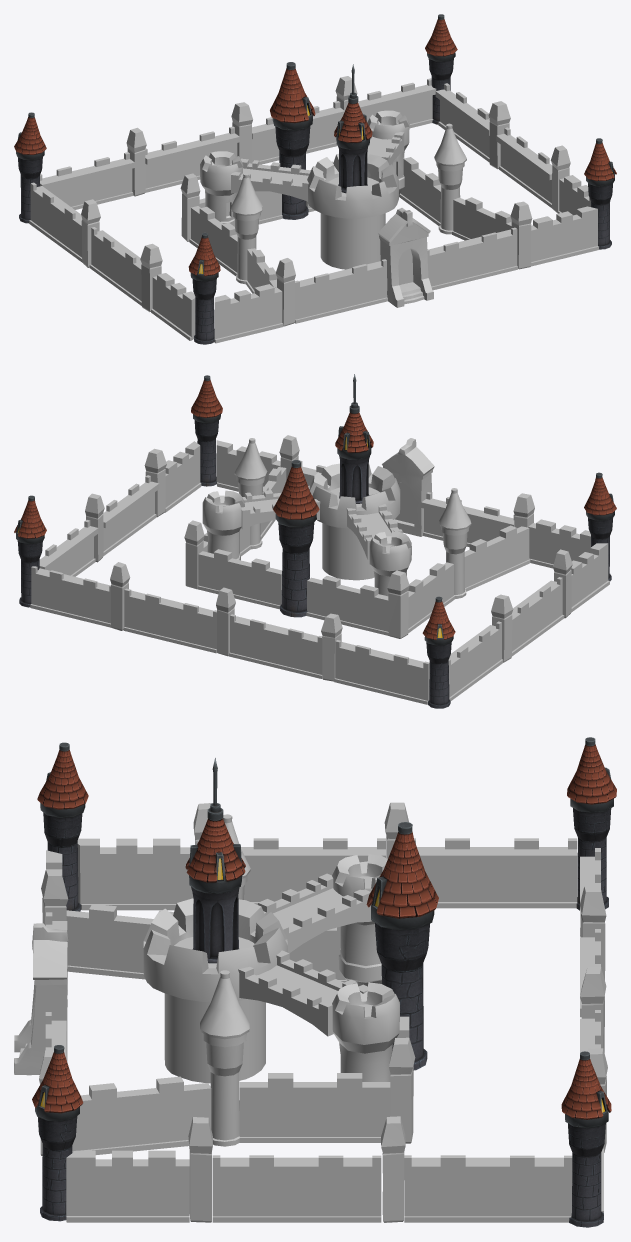
The model's file is Castle_Premade.FBX.
3 renders of one model, top to bottom at view 1: azimuth 30°, elevation 25°; view 2: azimuth 150°, elevation 25°; view 3: azimuth 270°, elevation 25°, orthographic. The views are drawn at different scales.
Visible parts, largest first — view 1: Tower_1, Wall_1, Entry, Wall_006, Tower_009, Wall_016, Wall_3, Wall_015, Wall_004, Tower_3, Wall_013, Wall_009 (+30 smaller); view 2: Tower_1, Tower_009, Wall_016, Wall_015, Wall_017, Wall_018, Wall_011, Wall_012, Wall_020, Entry, Tower_3, Wall_013 (+31 smaller); view 3: Tower_1, Wall_009, Wall_014, Wall_013, Wall_010, Tower_009, Wall_005, Wall_019, Wall_007, Tower_3, Tower_010, Tower_007 (+22 smaller).
Part boxes in pixels (x1,y1,x2,y2): Tower_1: (307,153,398,269); Wall_1: (294,259,387,323); Entry: (378,208,433,307); Wall_006: (427,227,517,290); Tower_009: (270,62,315,219); Wall_016: (40,152,134,209); Wall_3: (214,284,283,343); Wall_015: (145,126,239,192); Wall_004: (531,206,598,266); Tower_3: (334,64,372,193); Wall_013: (29,182,82,262); Wall_009: (496,127,552,207); Tower_1: (309,463,400,580); Tower_009: (273,460,319,617); Wall_016: (334,640,429,704); Wall_015: (229,614,322,678); Wall_017: (123,588,216,653); Wall_018: (30,566,111,627); Wall_011: (197,549,281,609); Wall_012: (306,576,388,635); Wall_020: (464,525,530,591); Entry: (382,438,434,536); Tower_3: (335,374,373,503); Wall_013: (448,621,503,700); Tower_1: (143,898,287,1083); Wall_009: (212,1155,381,1222); Wall_014: (404,1155,572,1222); Wall_013: (414,838,577,908); Wall_010: (239,1073,390,1142); Tower_009: (366,822,438,1070); Wall_005: (66,1150,189,1222); Wall_019: (72,1076,211,1154); Wall_007: (77,838,193,910); Tower_3: (185,758,245,963); Tower_010: (561,1051,611,1227); Tower_007: (200,970,249,1146).
Size of the model in its own units: 5121 by 2158 by 3870.
